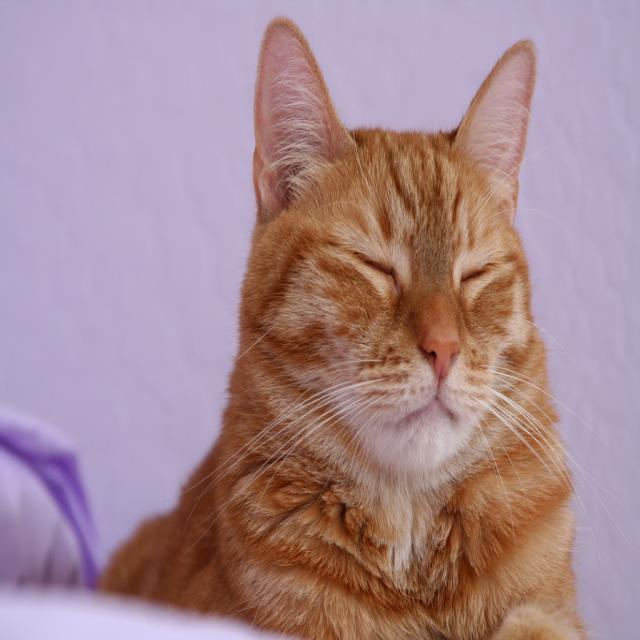cat: (95, 15, 614, 639)
